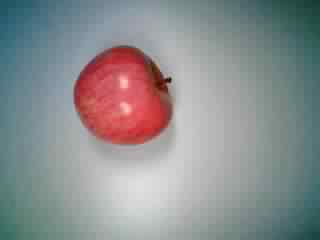apple: (73, 43, 177, 147)
